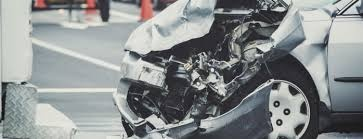Smashed: (115, 2, 318, 138)
